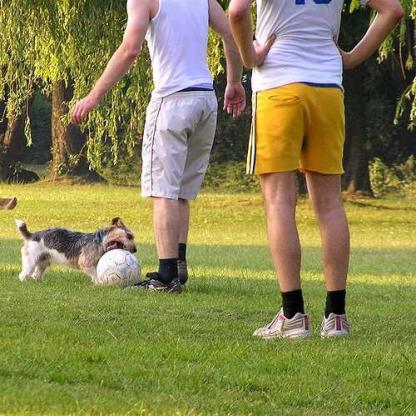ball: (96, 250, 143, 288)
